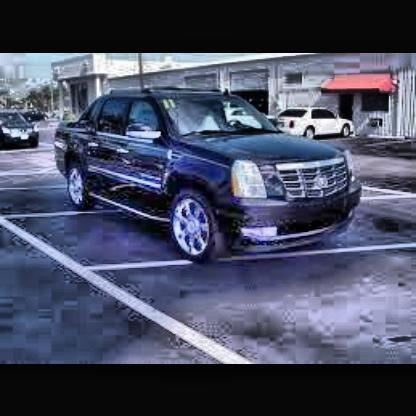Cadillac Escalade EXT Crew Cab 2007: (50, 85, 368, 266)
